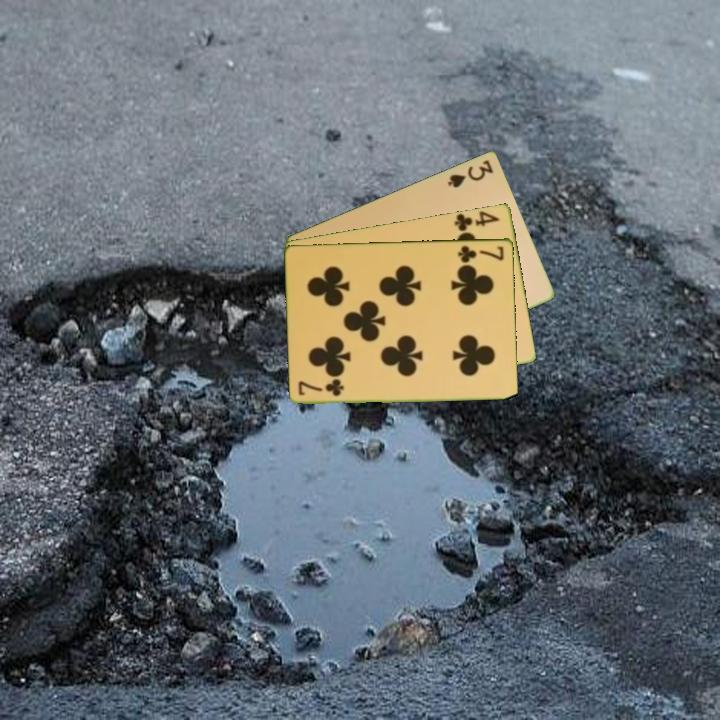3s: (444, 156, 496, 190)
4c: (451, 208, 503, 234)
7c: (454, 242, 507, 265), (295, 378, 347, 399)
